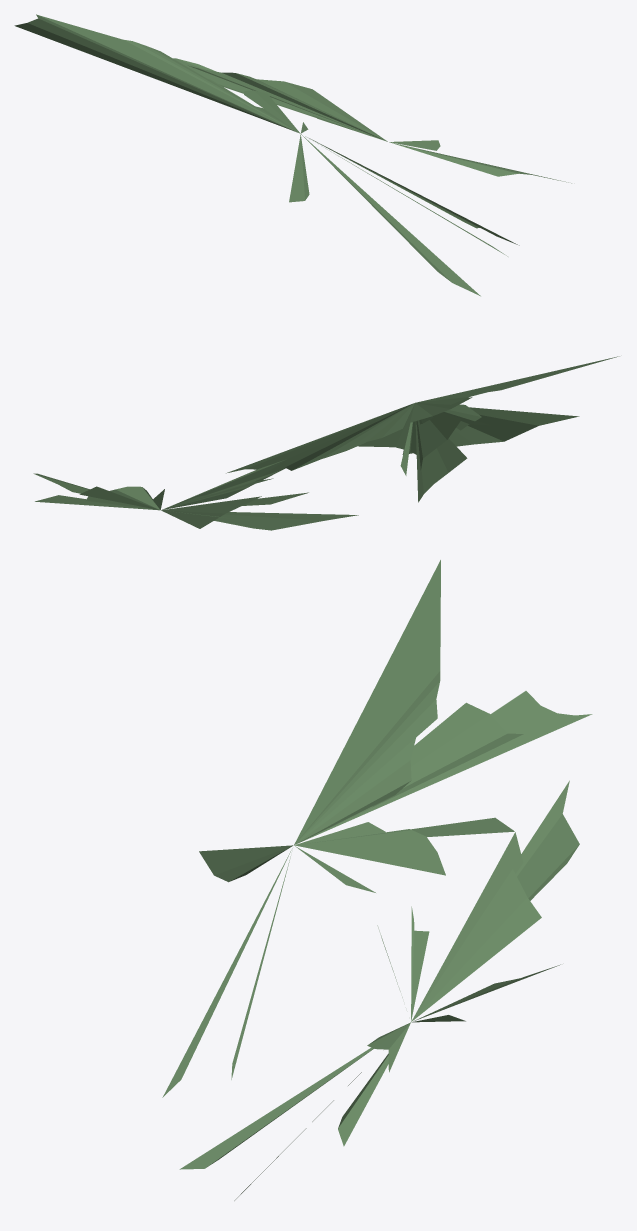
Rendered from c_1669_17823_forest.glb.
3 views of the same model, one above another, from view 1: azimuth 30°, elevation 25°; view 2: azimuth 150°, elevation 25°; view 3: azimuth 270°, elevation 25° (orthographic). The views are drawn at different scales.
Visible parts, largest first — view 1: geometry_0; view 2: geometry_0; view 3: geometry_0.
Part boxes in pixels (box(x1,y1,x2,y2)): geometry_0: box(14, 14, 571, 296); geometry_0: box(33, 356, 619, 530); geometry_0: box(162, 560, 592, 1200).
Size of the model in its own units: 656 by 356 by 547.
